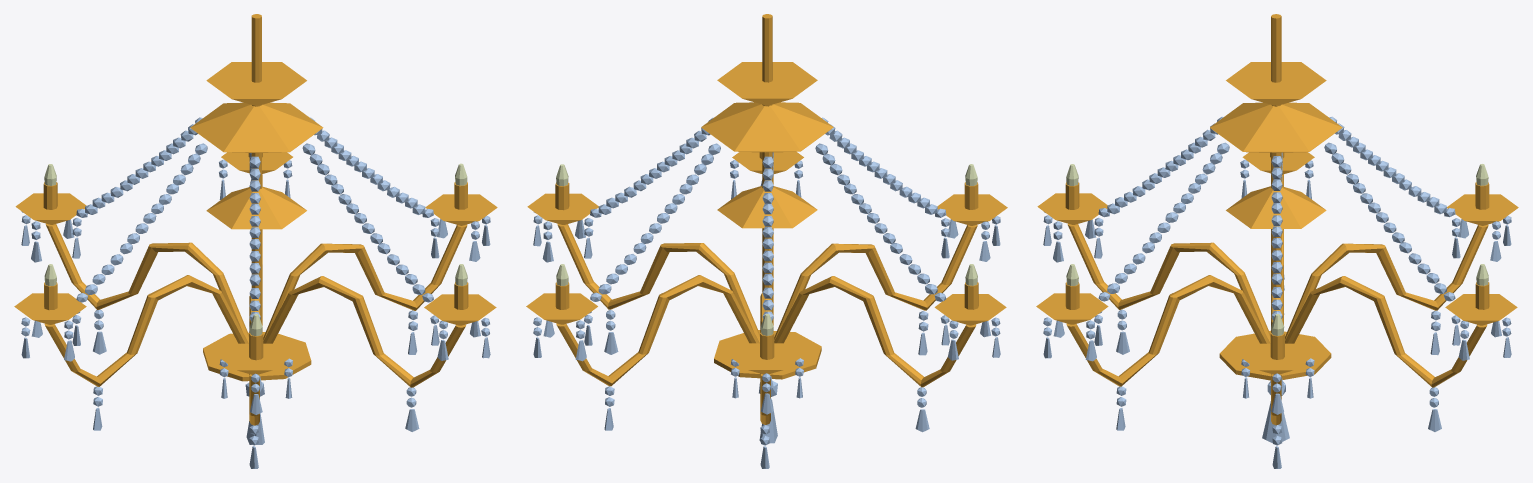
Rendered from Chandelier.fbx.
The picture shows the model from 3 angles, left to right: view 1: azimuth 30°, elevation 25°; view 2: azimuth 150°, elevation 25°; view 3: azimuth 270°, elevation 25°; orthographic projection.
Parts seen in each view (by area): view 1: Cone.008, Cylinder.030, Cylinder.016, Cylinder.029, Cylinder.015, Cone.009, Cone, Cylinder.001, Cone.004, Cone.002, Cone.003, Cone.006 (+3 smaller); view 2: Cone.008, Cylinder.015, Cylinder.044, Cylinder.016, Cylinder.043, Cone.009, Cone, Cylinder.001, Cone.003, Cone.007, Cone.002, Cone.005 (+3 smaller); view 3: Cone.008, Cylinder.043, Cylinder.029, Cylinder.044, Cylinder.030, Cone.009, Cone, Cylinder.001, Cone.007, Cone.004, Cone.002, Cone.005 (+3 smaller).
Boxes of the visible parts, x1,y1,x2,y2 form: Cone.008: (190, 102, 322, 151); Cylinder.030: (45, 223, 248, 342); Cylinder.016: (44, 275, 248, 386); Cylinder.029: (263, 276, 465, 387); Cylinder.015: (263, 224, 467, 340); Cone.009: (206, 62, 306, 105); Cone: (206, 186, 306, 229); Cylinder.001: (203, 332, 311, 381); Cone.004: (424, 294, 496, 325); Cone.002: (425, 194, 497, 225); Cone.003: (14, 293, 86, 324); Cone.006: (219, 343, 290, 374); Cone.008: (701, 102, 833, 151); Cylinder.015: (557, 224, 759, 342); Cylinder.044: (556, 275, 759, 386); Cylinder.016: (774, 276, 976, 387); Cylinder.043: (774, 225, 977, 340); Cone.009: (717, 62, 817, 105); Cone: (717, 186, 817, 228); Cylinder.001: (714, 330, 821, 379); Cone.003: (934, 294, 1006, 325); Cone.007: (526, 293, 597, 324); Cone.002: (527, 193, 598, 224); Cone.005: (730, 343, 801, 374); Cone.008: (1210, 102, 1342, 151); Cylinder.043: (1067, 223, 1270, 343); Cylinder.029: (1066, 275, 1270, 386); Cylinder.044: (1285, 276, 1487, 387); Cylinder.030: (1285, 224, 1488, 340); Cone.009: (1226, 62, 1326, 105); Cone: (1226, 186, 1326, 228); Cylinder.001: (1219, 330, 1331, 380); Cone.007: (1445, 294, 1517, 325); Cone.004: (1036, 293, 1108, 324); Cone.002: (1240, 343, 1312, 374); Cone.005: (1447, 194, 1518, 225).
Size of the model in its own units: 197 by 172 by 177.
